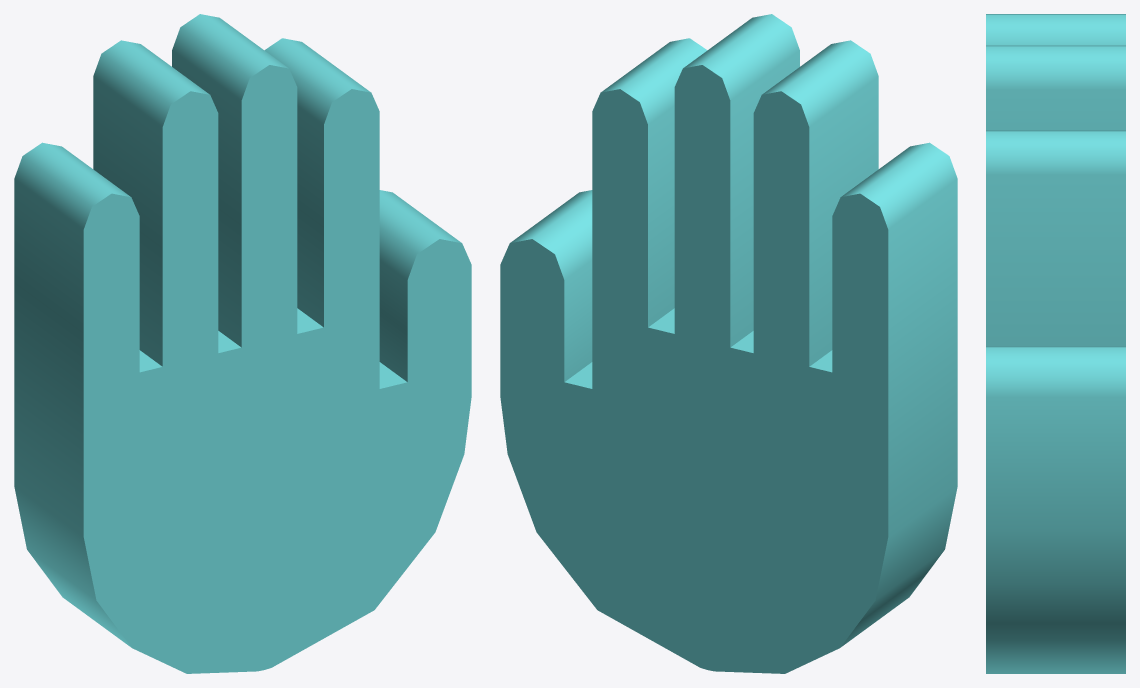
The model's file is HandLight.fbx.
3 views of the same model, side by side, from view 1: azimuth 30°, elevation 25°; view 2: azimuth 150°, elevation 25°; view 3: azimuth 270°, elevation 25° (orthographic).
Visible parts, largest first — view 1: Curve.004; view 2: Curve.004; view 3: Curve.004.
Boxes of the visible parts, x1=… form: Curve.004: x1=14, y1=14, x2=471, y2=673; Curve.004: x1=500, y1=14, x2=957, y2=673; Curve.004: x1=986, y1=14, x2=1125, y2=673.
Size of the model in its own units: 2.84 by 4.22 by 0.8796.
